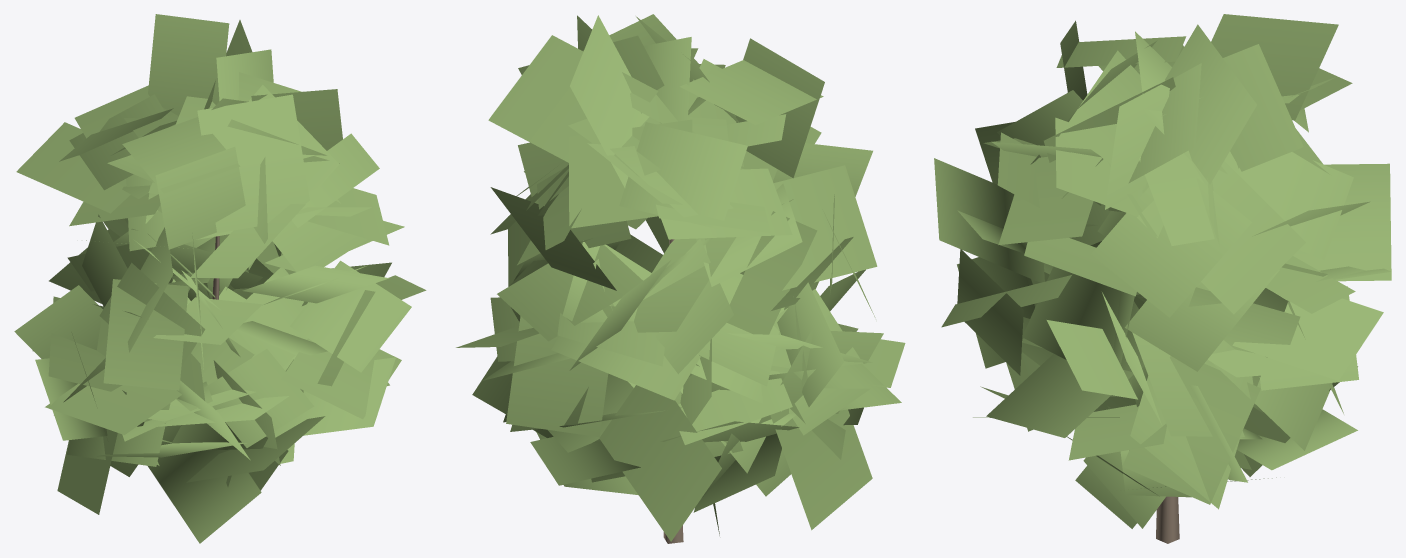
The model's file is Broadleaf_12_young_lod2.glb.
3 views of the same model, side by side, from view 1: azimuth 30°, elevation 25°; view 2: azimuth 150°, elevation 25°; view 3: azimuth 270°, elevation 25° (orthographic). The views are drawn at different scales.
Visible parts, largest first — view 1: Broadleaf_12_young_lod2; view 2: Broadleaf_12_young_lod2; view 3: Broadleaf_12_young_lod2.
Boxes of the visible parts, left/top/right/bottom form: Broadleaf_12_young_lod2: left=14, top=14, right=426, bottom=543; Broadleaf_12_young_lod2: left=456, top=14, right=905, bottom=543; Broadleaf_12_young_lod2: left=934, top=14, right=1391, bottom=543.
Bounding box in the file's own units: 5.31 × 6.74 × 5.04.
